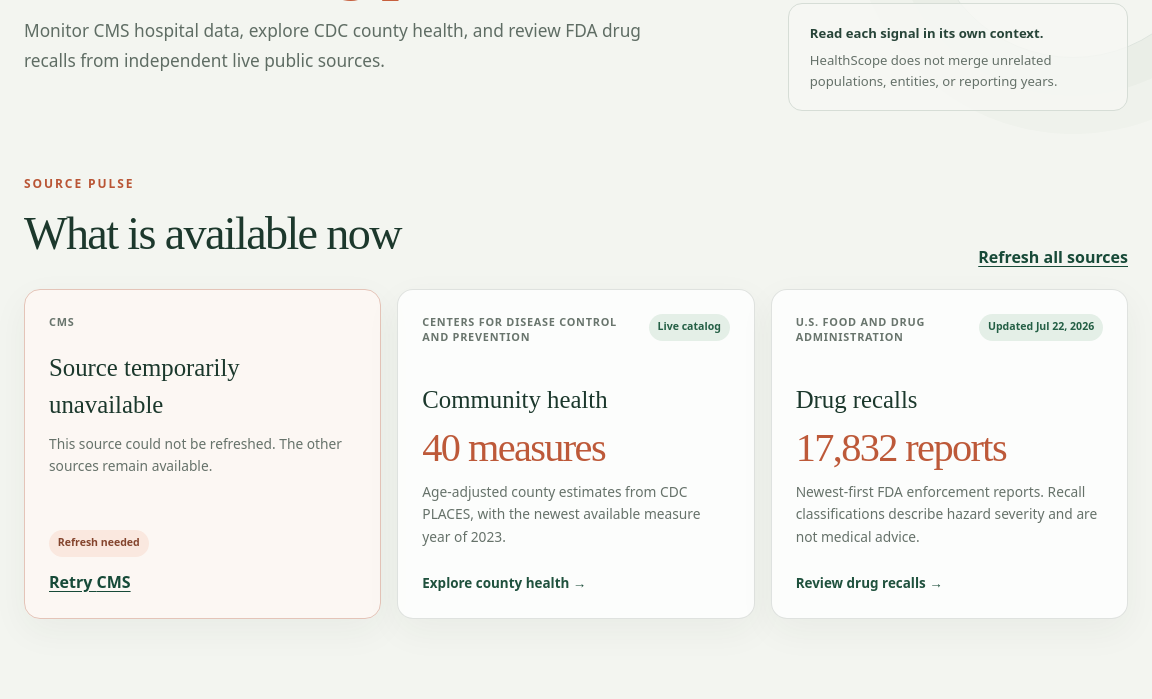
Test: cross-source overview › retries one failed source without reloading healthy cards
(page scrolled)
Expected: the heading "Source temporarily unavailable" is shown, [49,354,240,418]
Expected: the text "40 measures" is shown, [422,425,605,470]
Click the button "Retry CMS": (90, 582) [49,570,131,594]
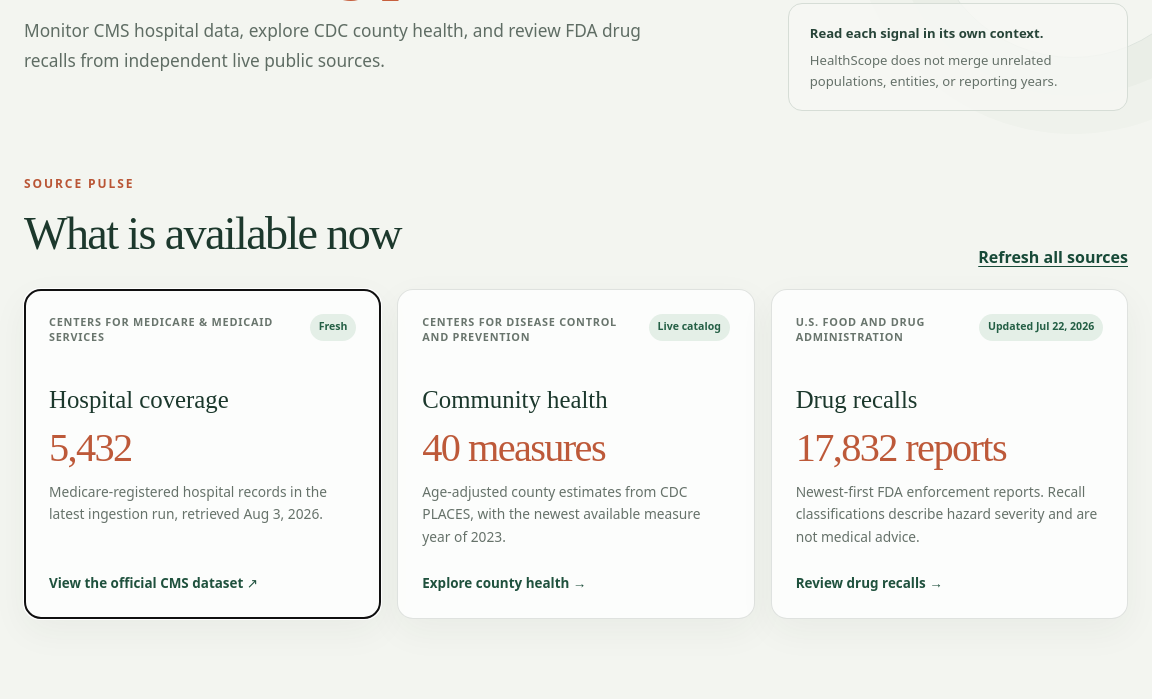
Expected: the text "5,432" is shown, [49,425,132,470]
